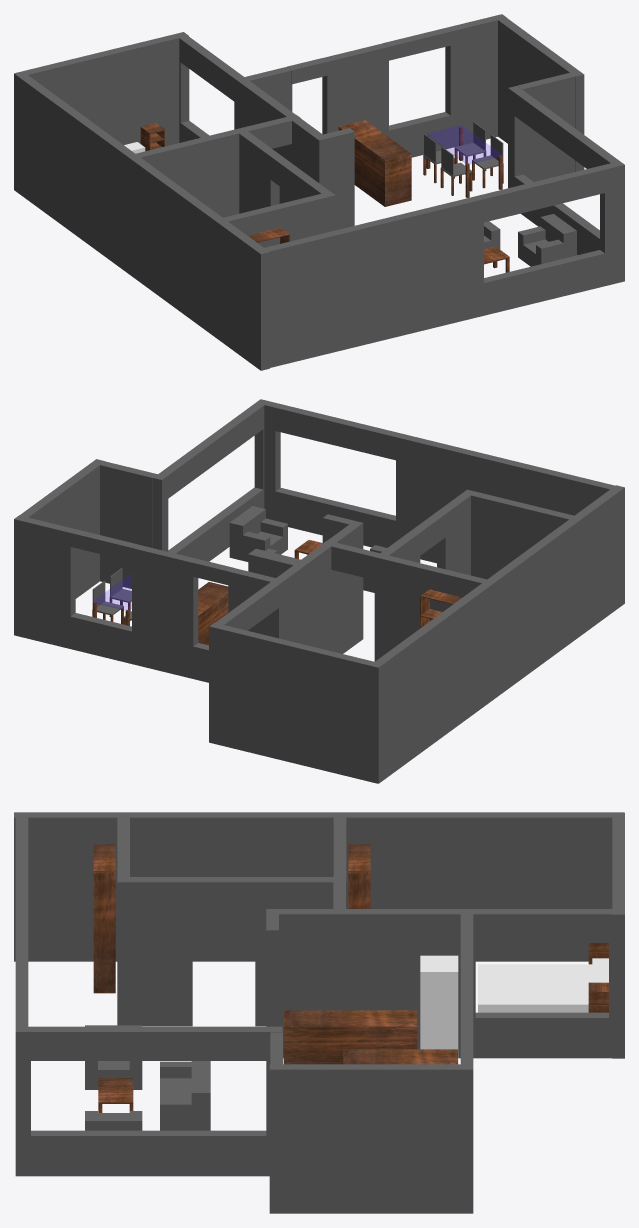
The model's file is VacuumsHouse.glb.
3 views of the same model, one above another, from view 1: azimuth 30°, elevation 25°; view 2: azimuth 150°, elevation 25°; view 3: azimuth 270°, elevation 25° (orthographic). The views are drawn at different scales.
Visible parts, largest first — view 1: Box012, Box033, Box011, Box025, Box006, Box027, Box036, Box024, Box057, Box014, Box031, Box035 (+20 smaller); view 2: Box012, Box011, Box033, Box014, Box025, Box027, Box006, Box010, Box026, Box031, Box024, Box036 (+21 smaller); view 3: Box012, Box024, Box014, Box023, Box007, Box022, Box056, Box016, Box072, Box015, Box008, Box058 (+21 smaller).
Boxes of the visible parts, bbox=[...] form: Box012: bbox=[14, 72, 269, 370]; Box033: bbox=[261, 195, 483, 367]; Box011: bbox=[14, 32, 188, 146]; Box025: bbox=[445, 14, 506, 147]; Box006: bbox=[128, 127, 247, 217]; Box027: bbox=[322, 43, 388, 134]; Box036: bbox=[484, 250, 604, 315]; Box024: bbox=[493, 14, 584, 171]; Box057: bbox=[338, 120, 411, 206]; Box014: bbox=[234, 76, 326, 203]; Box031: bbox=[517, 73, 574, 181]; Box035: bbox=[479, 166, 605, 222]; Box012: bbox=[370, 485, 624, 783]; Box011: bbox=[209, 622, 382, 783]; Box033: bbox=[396, 433, 618, 563]; Box014: bbox=[270, 521, 362, 653]; Box025: bbox=[14, 515, 75, 648]; Box027: bbox=[132, 544, 198, 646]; Box006: bbox=[374, 553, 493, 661]; Box010: bbox=[462, 489, 582, 579]; Box026: bbox=[69, 613, 208, 682]; Box031: bbox=[100, 461, 157, 588]; Box024: bbox=[19, 459, 104, 598]; Box036: bbox=[275, 487, 396, 547]; Box012: bbox=[14, 812, 624, 961]; Box024: bbox=[269, 1064, 473, 1213]; Box014: bbox=[269, 909, 475, 1058]; Box023: bbox=[31, 1130, 266, 1176]; Box007: bbox=[117, 877, 192, 1026]; Box022: bbox=[30, 1026, 266, 1060]; Box056: bbox=[283, 1010, 417, 1064]; Box016: bbox=[475, 1012, 608, 1058]; Box072: bbox=[478, 964, 592, 1012]; Box015: bbox=[475, 909, 608, 942]; Box008: bbox=[255, 877, 345, 1026]; Box058: bbox=[420, 955, 458, 1063].
Bounding box in the file's own units: 113 × 29.56 × 114.
Materials: 4 (2 with a texture image).
